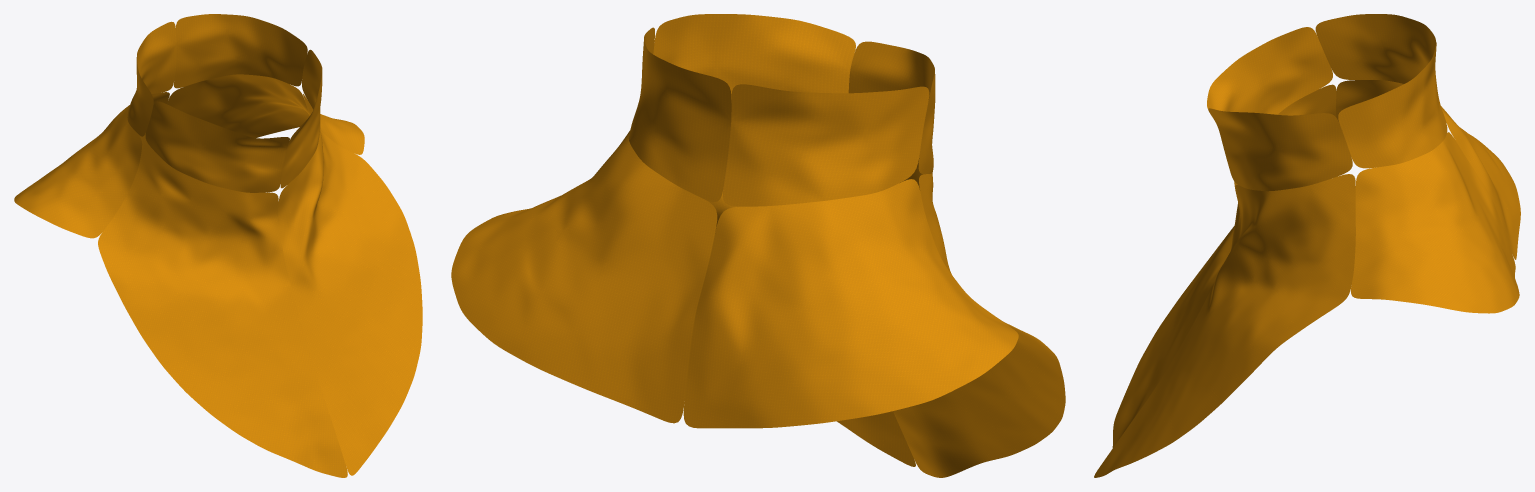
The model's file is collar.gltf.
3 views of the same model, side by side, from view 1: azimuth 30°, elevation 25°; view 2: azimuth 150°, elevation 25°; view 3: azimuth 270°, elevation 25° (orthographic). The views are drawn at different scales.
Visible parts, largest first — view 1: Pattern2D_114472; view 2: Pattern2D_114472; view 3: Pattern2D_114472.
Boxes of the visible parts, x1,y1,x2,y2 form: Pattern2D_114472: (14,14,422,477); Pattern2D_114472: (451,14,1065,477); Pattern2D_114472: (1094,14,1520,477).
Bounding box in the file's own units: 3.62 × 3.73 × 3.42.
Materials: 1 (1 with a texture image).
